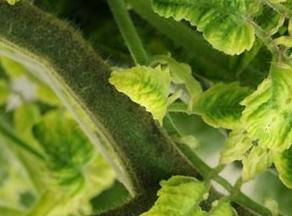Tomato leaf yellow virus: (75, 22, 211, 148), (126, 0, 284, 93), (195, 52, 292, 169), (117, 163, 217, 216)
